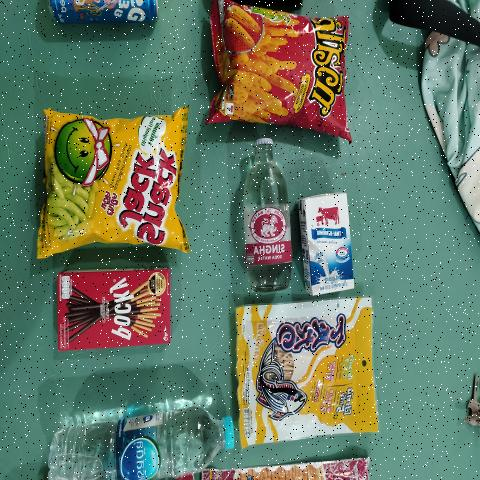crystal: (36, 403, 233, 480)
pokki: (59, 270, 169, 349)
singha_soda: (246, 136, 290, 287)
snack_jack: (44, 116, 178, 248)
taro_yellow: (244, 304, 368, 437)
thai_denmark: (300, 190, 354, 296)
twisco: (220, 19, 341, 118)
